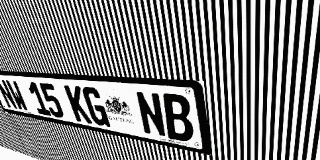1: (25, 82, 52, 116)
5: (38, 83, 66, 119)
B: (160, 93, 195, 143)
G: (81, 86, 111, 127)
K: (64, 85, 92, 124)
N: (134, 91, 167, 138), (0, 79, 19, 110)
W: (5, 80, 30, 112)
